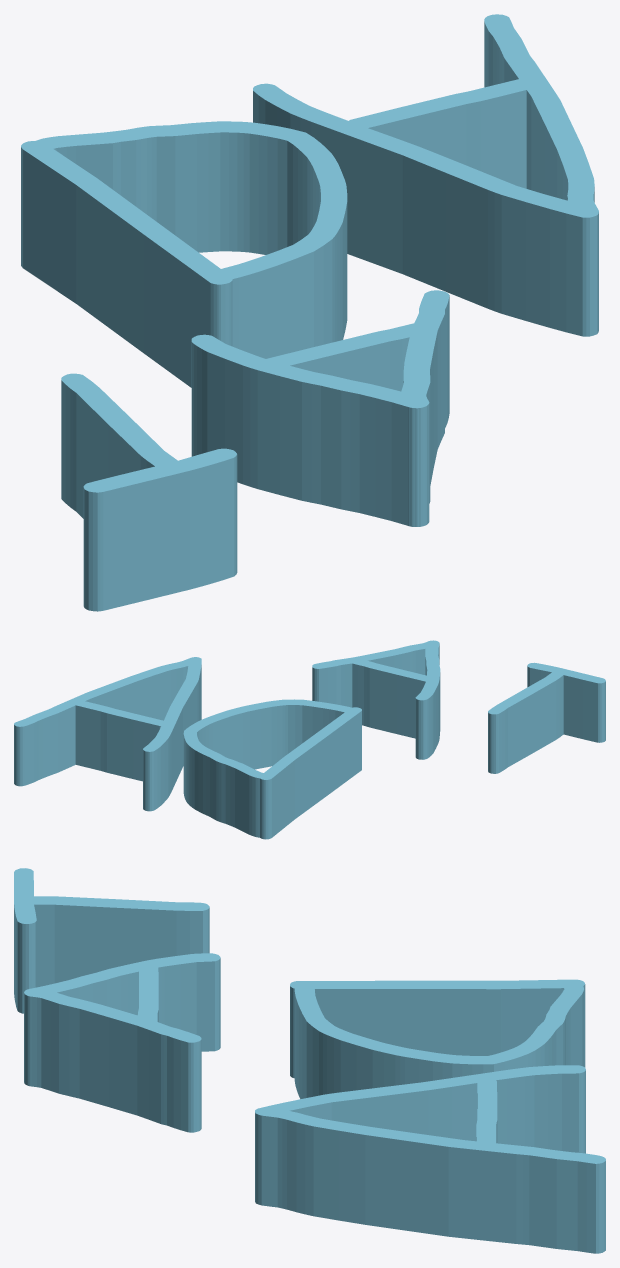
Rendered from tinker.obj.
The picture shows the model from 3 angles, top to bottom: view 1: azimuth 30°, elevation 25°; view 2: azimuth 150°, elevation 25°; view 3: azimuth 270°, elevation 25°; orthographic projection. The views are drawn at different scales.
Visible parts, largest first — view 1: obj_0; view 2: obj_0; view 3: obj_0.
Boxes of the visible parts, left/top/right/bottom form: obj_0: left=21, top=14, right=598, bottom=611; obj_0: left=14, top=640, right=605, bottom=839; obj_0: left=14, top=868, right=605, bottom=1253.
Size of the model in its own units: 70.57 by 10 by 59.69.
